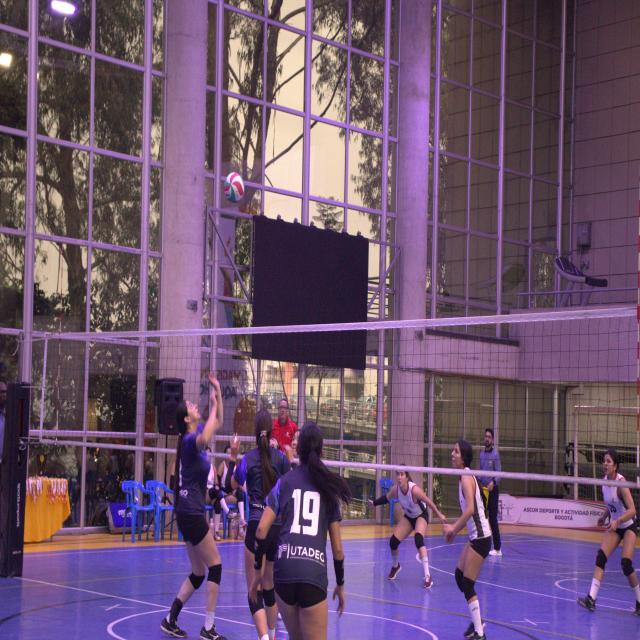volleyball: (222, 171, 244, 202)
